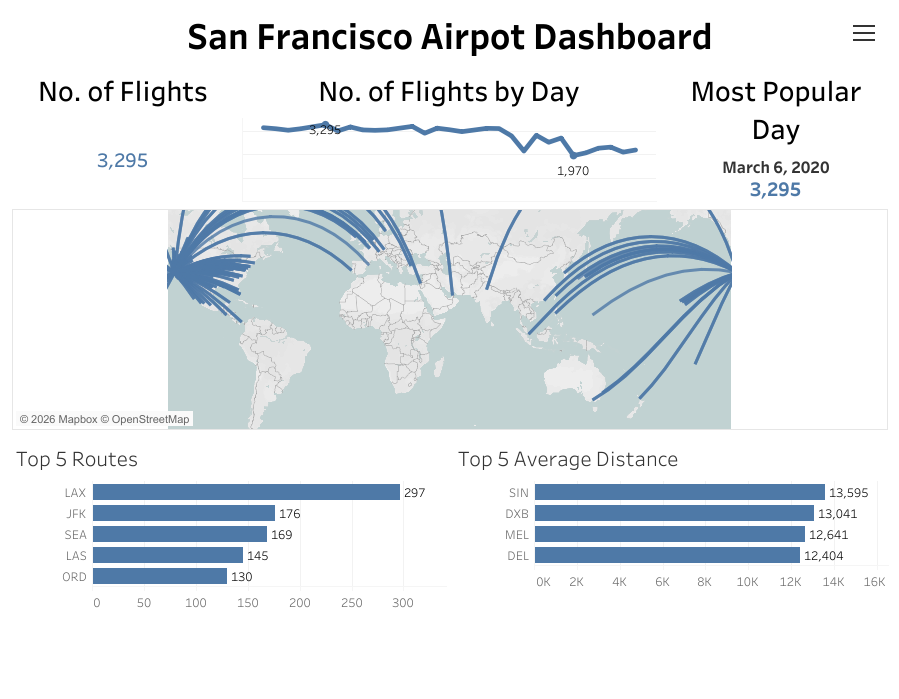

The dashboard page shown, as its layout file describes it:
{"tool":"tableau","page":{"name":"Dashboard 1","canvas":[1000,1000],"units":"permille","ordinal":0},"visuals":[{"type":"text","box":[8.9,11.4,982.2,76.2]},{"type":"dashboard-object","box":[946.7,30,26.7,34.3]},{"type":"filter","title":"Routes","param":"[federated.0b37fav0hsrsha1b8tmu00lzpq7g].[none:Route:nk]","box":[840,80,146.7,108.6]},{"type":"worksheet","title":"Number of Flights","mark":"Automatic","box":[8.9,87.6,255.5,205.2]},{"type":"worksheet","title":"Number of Flights by Day","mark":"Automatic","rows":["Calculation_556757520096768000"],"cols":["Date"],"box":[264.4,87.6,469.4,205.2]},{"type":"worksheet","title":"Most Popular Day","mark":"Automatic","cols":["Date"],"box":[733.9,87.6,257.2,205.2]},{"type":"filter","title":"Most Popular Day","param":"[federated.0b37fav0hsrsha1b8tmu00lzpq7g].[none:Date:ok]","box":[840,188.6,146.7,82.9]},{"type":"filter","title":"Map","param":"[federated.0b37fav0hsrsha1b8tmu00lzpq7g].[sum:Calculation_710442857549238274:qk]","box":[840,271.4,146.7,82.9]},{"type":"worksheet","title":"Map","mark":"Multipolygon","box":[8.9,292.9,982.2,327.1]},{"type":"worksheet","title":"Routes","mark":"Automatic","rows":["Calculation_556757520113360898"],"cols":["Calculation_556757520096768000"],"box":[8.9,620,491.1,368.6]},{"type":"worksheet","title":"Distance","mark":"Automatic","rows":["Calculation_556757520113360898"],"cols":["Calculation_710442857549238274"],"box":[499.9,620,491.2,368.6]}]}

Visuals, with their boxes on the dashboard's canvas, which has no fixed pixel size, in thousandths of its width and height (x1, y1, x2, y2). These are canvas units, not pixel positions in the 899x699 screenshot, which may show the page scaled, cropped or inside an application window:
text: (x1=9, y1=11, x2=991, y2=88)
dashboard-object: (x1=947, y1=30, x2=973, y2=64)
"Routes" filter: (x1=840, y1=80, x2=987, y2=189)
"Number of Flights" worksheet: (x1=9, y1=88, x2=264, y2=293)
"Number of Flights by Day" worksheet: (x1=264, y1=88, x2=734, y2=293)
"Most Popular Day" worksheet: (x1=734, y1=88, x2=991, y2=293)
"Most Popular Day" filter: (x1=840, y1=189, x2=987, y2=272)
"Map" filter: (x1=840, y1=271, x2=987, y2=354)
"Map" worksheet (Multipolygon marks): (x1=9, y1=293, x2=991, y2=620)
"Routes" worksheet: (x1=9, y1=620, x2=500, y2=989)
"Distance" worksheet: (x1=500, y1=620, x2=991, y2=989)
